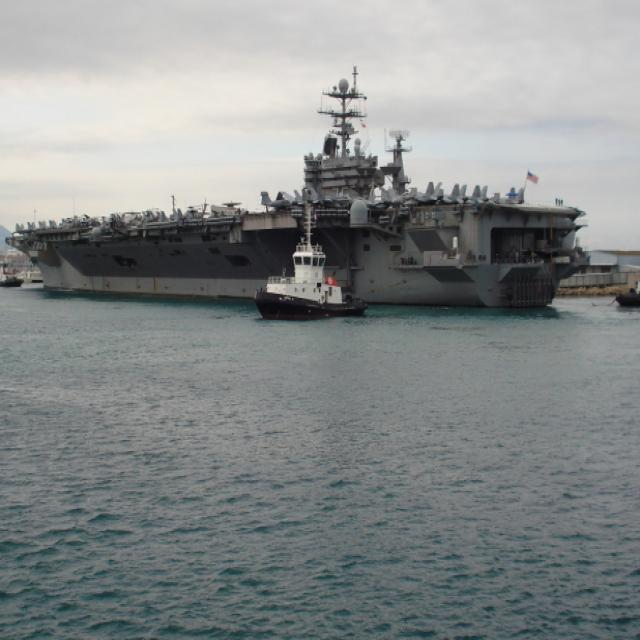Portanaves: (1, 60, 589, 314)
